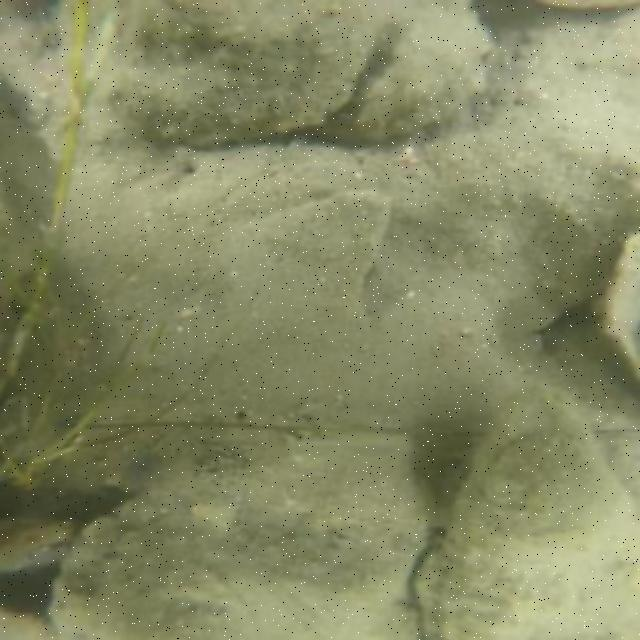Oyster-Closed: (40, 392, 440, 638), (412, 399, 640, 640), (91, 0, 372, 150), (345, 13, 484, 135), (608, 232, 640, 376)
